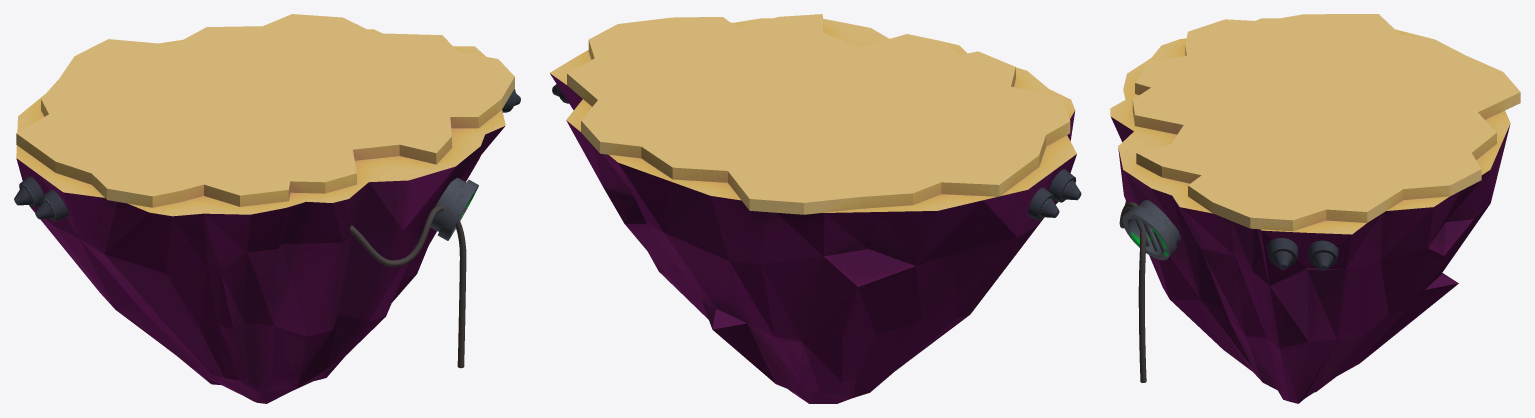
The model's file is cyberpunk-bar-1.glb.
3 renders of one model, left to right at view 1: azimuth 30°, elevation 25°; view 2: azimuth 150°, elevation 25°; view 3: azimuth 270°, elevation 25°, orthographic. The views are drawn at different scales.
Visible parts, largest first — view 1: Object_20, Object_21, Object_10; view 2: Object_20, Object_21; view 3: Object_20, Object_21, Object_10.
Boxes of the visible parts, x1,y1,x2,y2 form: Object_20: (16,14,514,403); Object_21: (14,88,520,240); Object_10: (349,205,466,368); Object_20: (550,14,1076,403); Object_21: (552,84,1081,220); Object_20: (1110,14,1520,403); Object_21: (1122,200,1338,270); Object_10: (1119,201,1146,382).
Bounding box in the file's own units: 1.64 × 0.9213 × 1.25.
2 materials, 1 textured.
